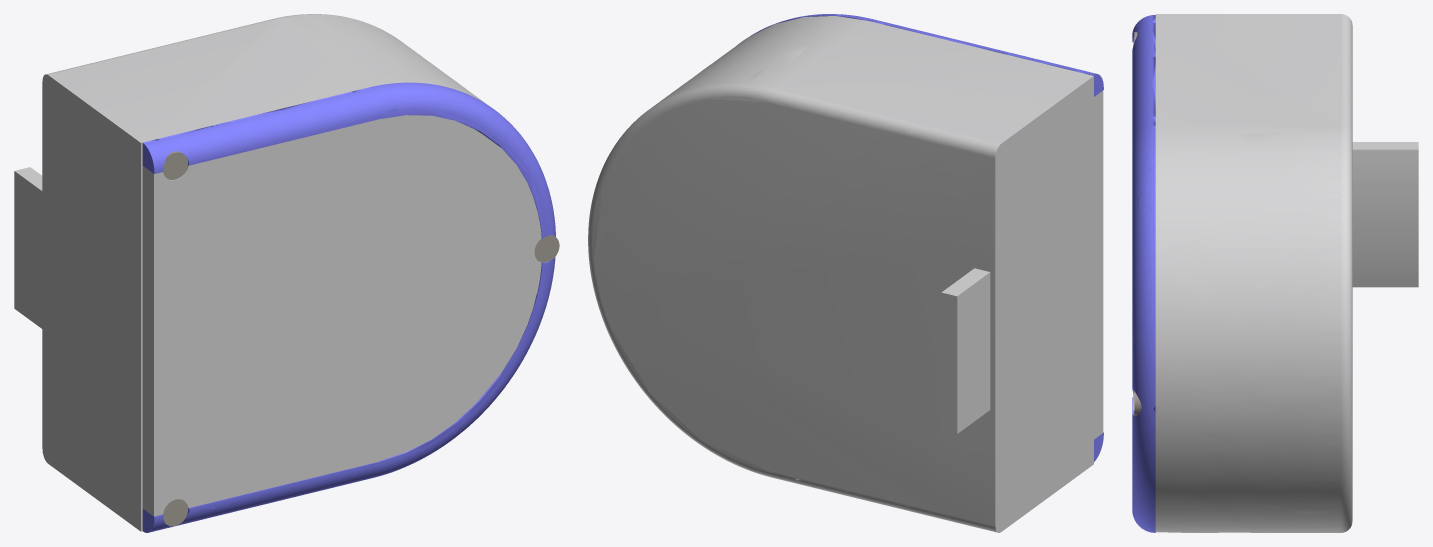
Rendered from brooks_pf400_z_carriage.glb.
The picture shows the model from 3 angles, left to right: view 1: azimuth 30°, elevation 25°; view 2: azimuth 150°, elevation 25°; view 3: azimuth 270°, elevation 25°; orthographic projection.
Parts seen in each view (by area): view 1: brooks_pf400_z_carriage; view 2: brooks_pf400_z_carriage; view 3: brooks_pf400_z_carriage.
Boxes of the visible parts, box(x1,y1,x2,y2) form: brooks_pf400_z_carriage: box(14, 14, 559, 532); brooks_pf400_z_carriage: box(588, 14, 1103, 532); brooks_pf400_z_carriage: box(1132, 14, 1418, 532).
Bounding box in the file's own units: 0.122 × 0.11 × 0.0735.
